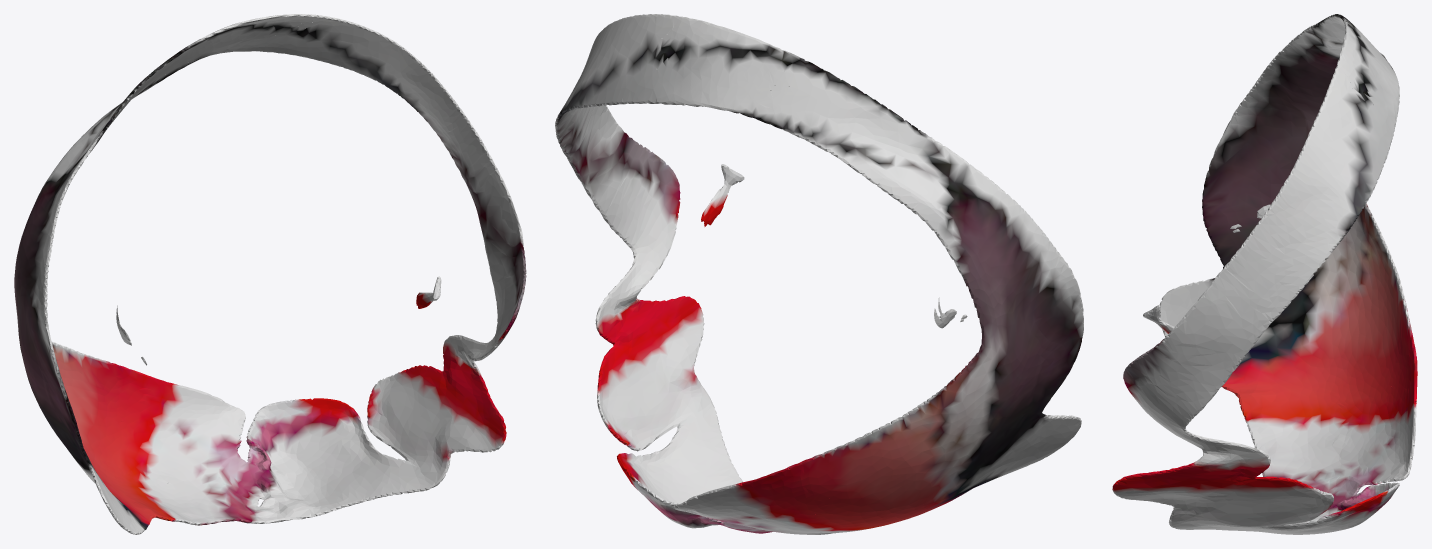
File: ring_strife.glb
3 renders of one model, left to right at view 1: azimuth 30°, elevation 25°; view 2: azimuth 150°, elevation 25°; view 3: azimuth 270°, elevation 25°, orthographic. The views are drawn at different scales.
Visible parts, largest first — view 1: geometry_0; view 2: geometry_0; view 3: geometry_0.
Boxes of the visible parts, <box> form: geometry_0: <box>14,14,526,534</box>; geometry_0: <box>555,14,1083,534</box>; geometry_0: <box>1112,14,1417,534</box>.
Bounding box in the file's own units: 0.5938 × 0.5977 × 0.3432.
